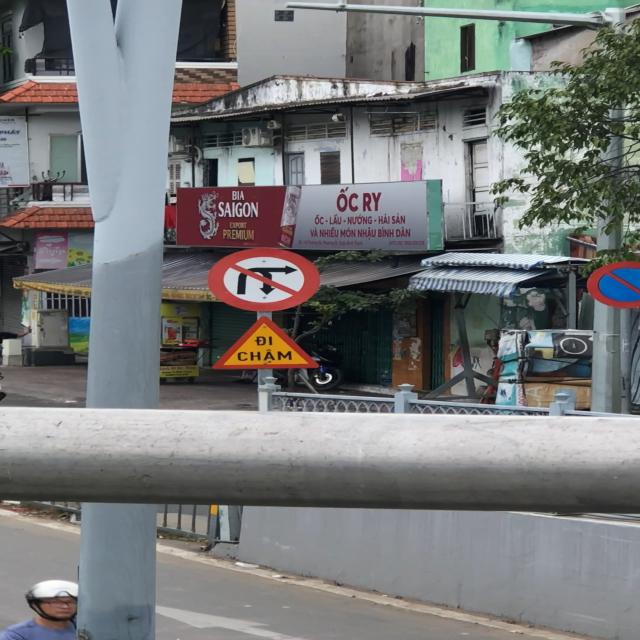Bien bao cam re phai va quay dau: (207, 243, 326, 316)
Bien bao di cham: (209, 315, 320, 373)
